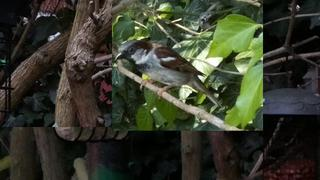sparrow: (115, 40, 223, 108)
